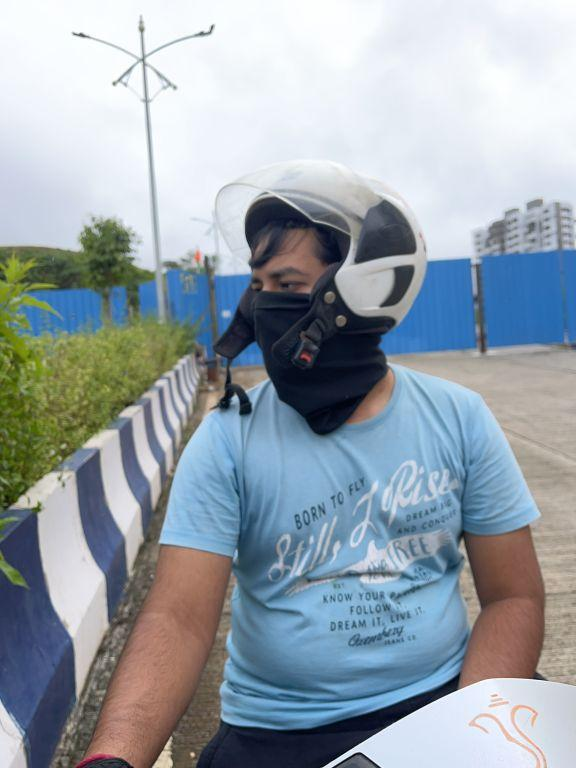helmet: (209, 149, 432, 441)
